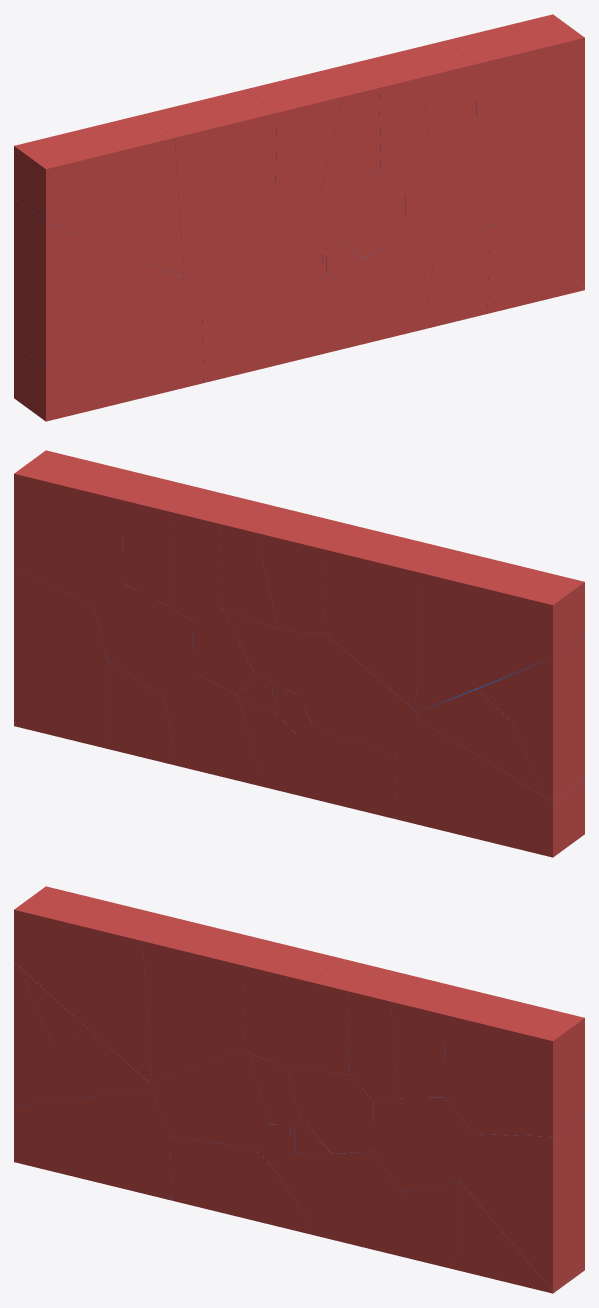
Rendered from WallDebris.fbx.
3 views of the same model, one above another, from view 1: azimuth 30°, elevation 25°; view 2: azimuth 150°, elevation 25°; view 3: azimuth 330°, elevation 25° (orthographic).
Parts seen in each view (by area): view 1: Plane_cell.029, Plane_cell.005, Plane_cell, Plane_cell.014, Plane_cell.017, Plane_cell.010, Plane_cell.001, Plane_cell.035, Plane_cell.009, Plane_cell.011, Plane_cell.015, Plane_cell.024 (+12 smaller); view 2: Plane_cell.029, Plane_cell.005, Plane_cell, Plane_cell.014, Plane_cell.017, Plane_cell.010, Plane_cell.001, Plane_cell.035, Plane_cell.009, Plane_cell.011, Plane_cell.015, Plane_cell.024 (+12 smaller); view 3: Plane_cell, Plane_cell.029, Plane_cell.014, Plane_cell.017, Plane_cell.005, Plane_cell.010, Plane_cell.001, Plane_cell.009, Plane_cell.011, Plane_cell.015, Plane_cell.024, Plane_cell.002 (+12 smaller).
Part boxes in pixels (x1,y1,x2,y2): Plane_cell.029: (14,114,183,276); Plane_cell.005: (14,282,203,421); Plane_cell: (445,14,584,168); Plane_cell.014: (143,89,276,273); Plane_cell.017: (491,133,584,287); Plane_cell.010: (202,291,342,382); Plane_cell.001: (182,196,301,319); Plane_cell.035: (14,198,85,365); Plane_cell.009: (405,147,505,261); Plane_cell.011: (339,236,433,348); Plane_cell.015: (245,73,342,197); Plane_cell.024: (391,41,476,168); Plane_cell.029: (415,550,584,712); Plane_cell.005: (395,718,584,857); Plane_cell: (14,450,153,604); Plane_cell.014: (322,525,455,709); Plane_cell.017: (14,569,107,723); Plane_cell.010: (256,727,396,818); Plane_cell.001: (297,632,416,755); Plane_cell.035: (514,634,584,801); Plane_cell.009: (93,583,193,697); Plane_cell.011: (165,672,259,784); Plane_cell.015: (256,509,353,633); Plane_cell.024: (122,477,207,604); Plane_cell: (444,991,584,1136); Plane_cell.029: (14,886,174,1083); Plane_cell.014: (142,918,276,1081); Plane_cell.017: (460,1113,584,1290); Plane_cell.005: (14,1089,171,1200); Plane_cell.010: (170,1136,310,1234); Plane_cell.001: (150,1049,269,1148); Plane_cell.009: (373,1097,473,1191); Plane_cell.011: (307,1151,401,1253); Plane_cell.015: (243,943,342,1067); Plane_cell.024: (390,978,475,1097); Plane_cell.002: (347,967,421,1100).
Bounding box in the file's own units: 1117 × 500 × 115.
